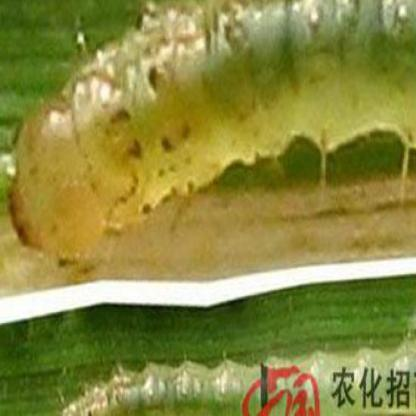leaf-folder: (23, 2, 416, 271)
